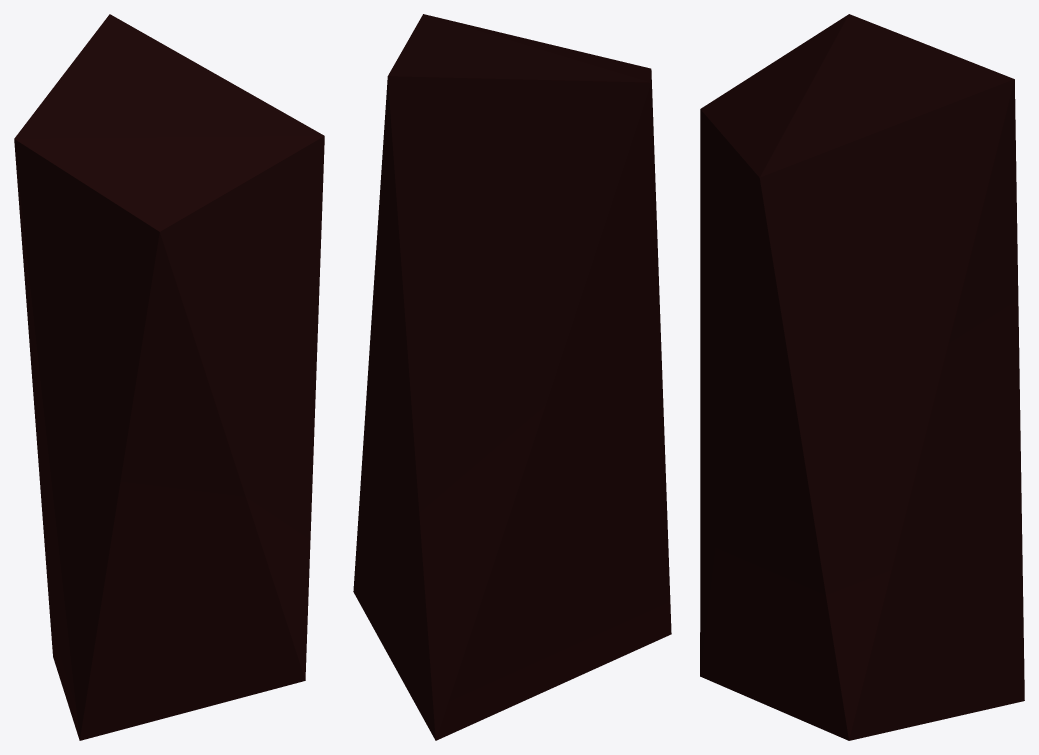
Rendered from tf_talus_chunk_2_lod1.glb.
3 views of the same model, side by side, from view 1: azimuth 30°, elevation 25°; view 2: azimuth 150°, elevation 25°; view 3: azimuth 270°, elevation 25° (orthographic). The views are drawn at different scales.
Visible parts, largest first — view 1: tf_talus_chunk_2_lod1; view 2: tf_talus_chunk_2_lod1; view 3: tf_talus_chunk_2_lod1.
Boxes of the visible parts, x1,y1,x2,y2 form: tf_talus_chunk_2_lod1: [14, 14, 324, 740]; tf_talus_chunk_2_lod1: [353, 14, 671, 740]; tf_talus_chunk_2_lod1: [700, 14, 1024, 740].
Bounding box in the file's own units: 0.8 × 1.66 × 0.7556.
